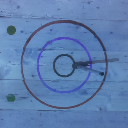Axe Tip: (78, 62, 89, 65)
